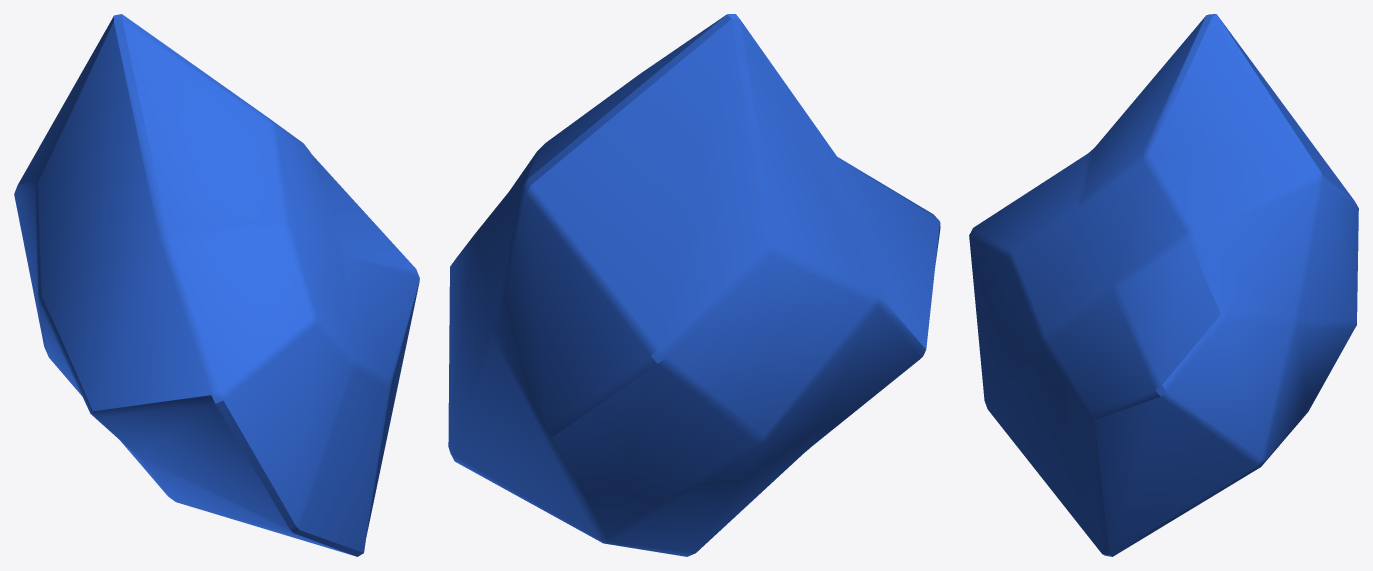
Rendered from websiteObjectTwo.gltf.
The picture shows the model from 3 angles, left to right: view 1: azimuth 30°, elevation 25°; view 2: azimuth 150°, elevation 25°; view 3: azimuth 270°, elevation 25°; orthographic projection. The views are drawn at different scales.
Parts seen in each view (by area): view 1: Stone; view 2: Stone; view 3: Stone.
Part boxes in pixels (bbox=[...]): Stone: bbox=[14, 14, 419, 556]; Stone: bbox=[448, 14, 940, 556]; Stone: bbox=[969, 14, 1358, 556].
Bounding box in the file's own units: 1.36 × 1.88 × 1.42.
